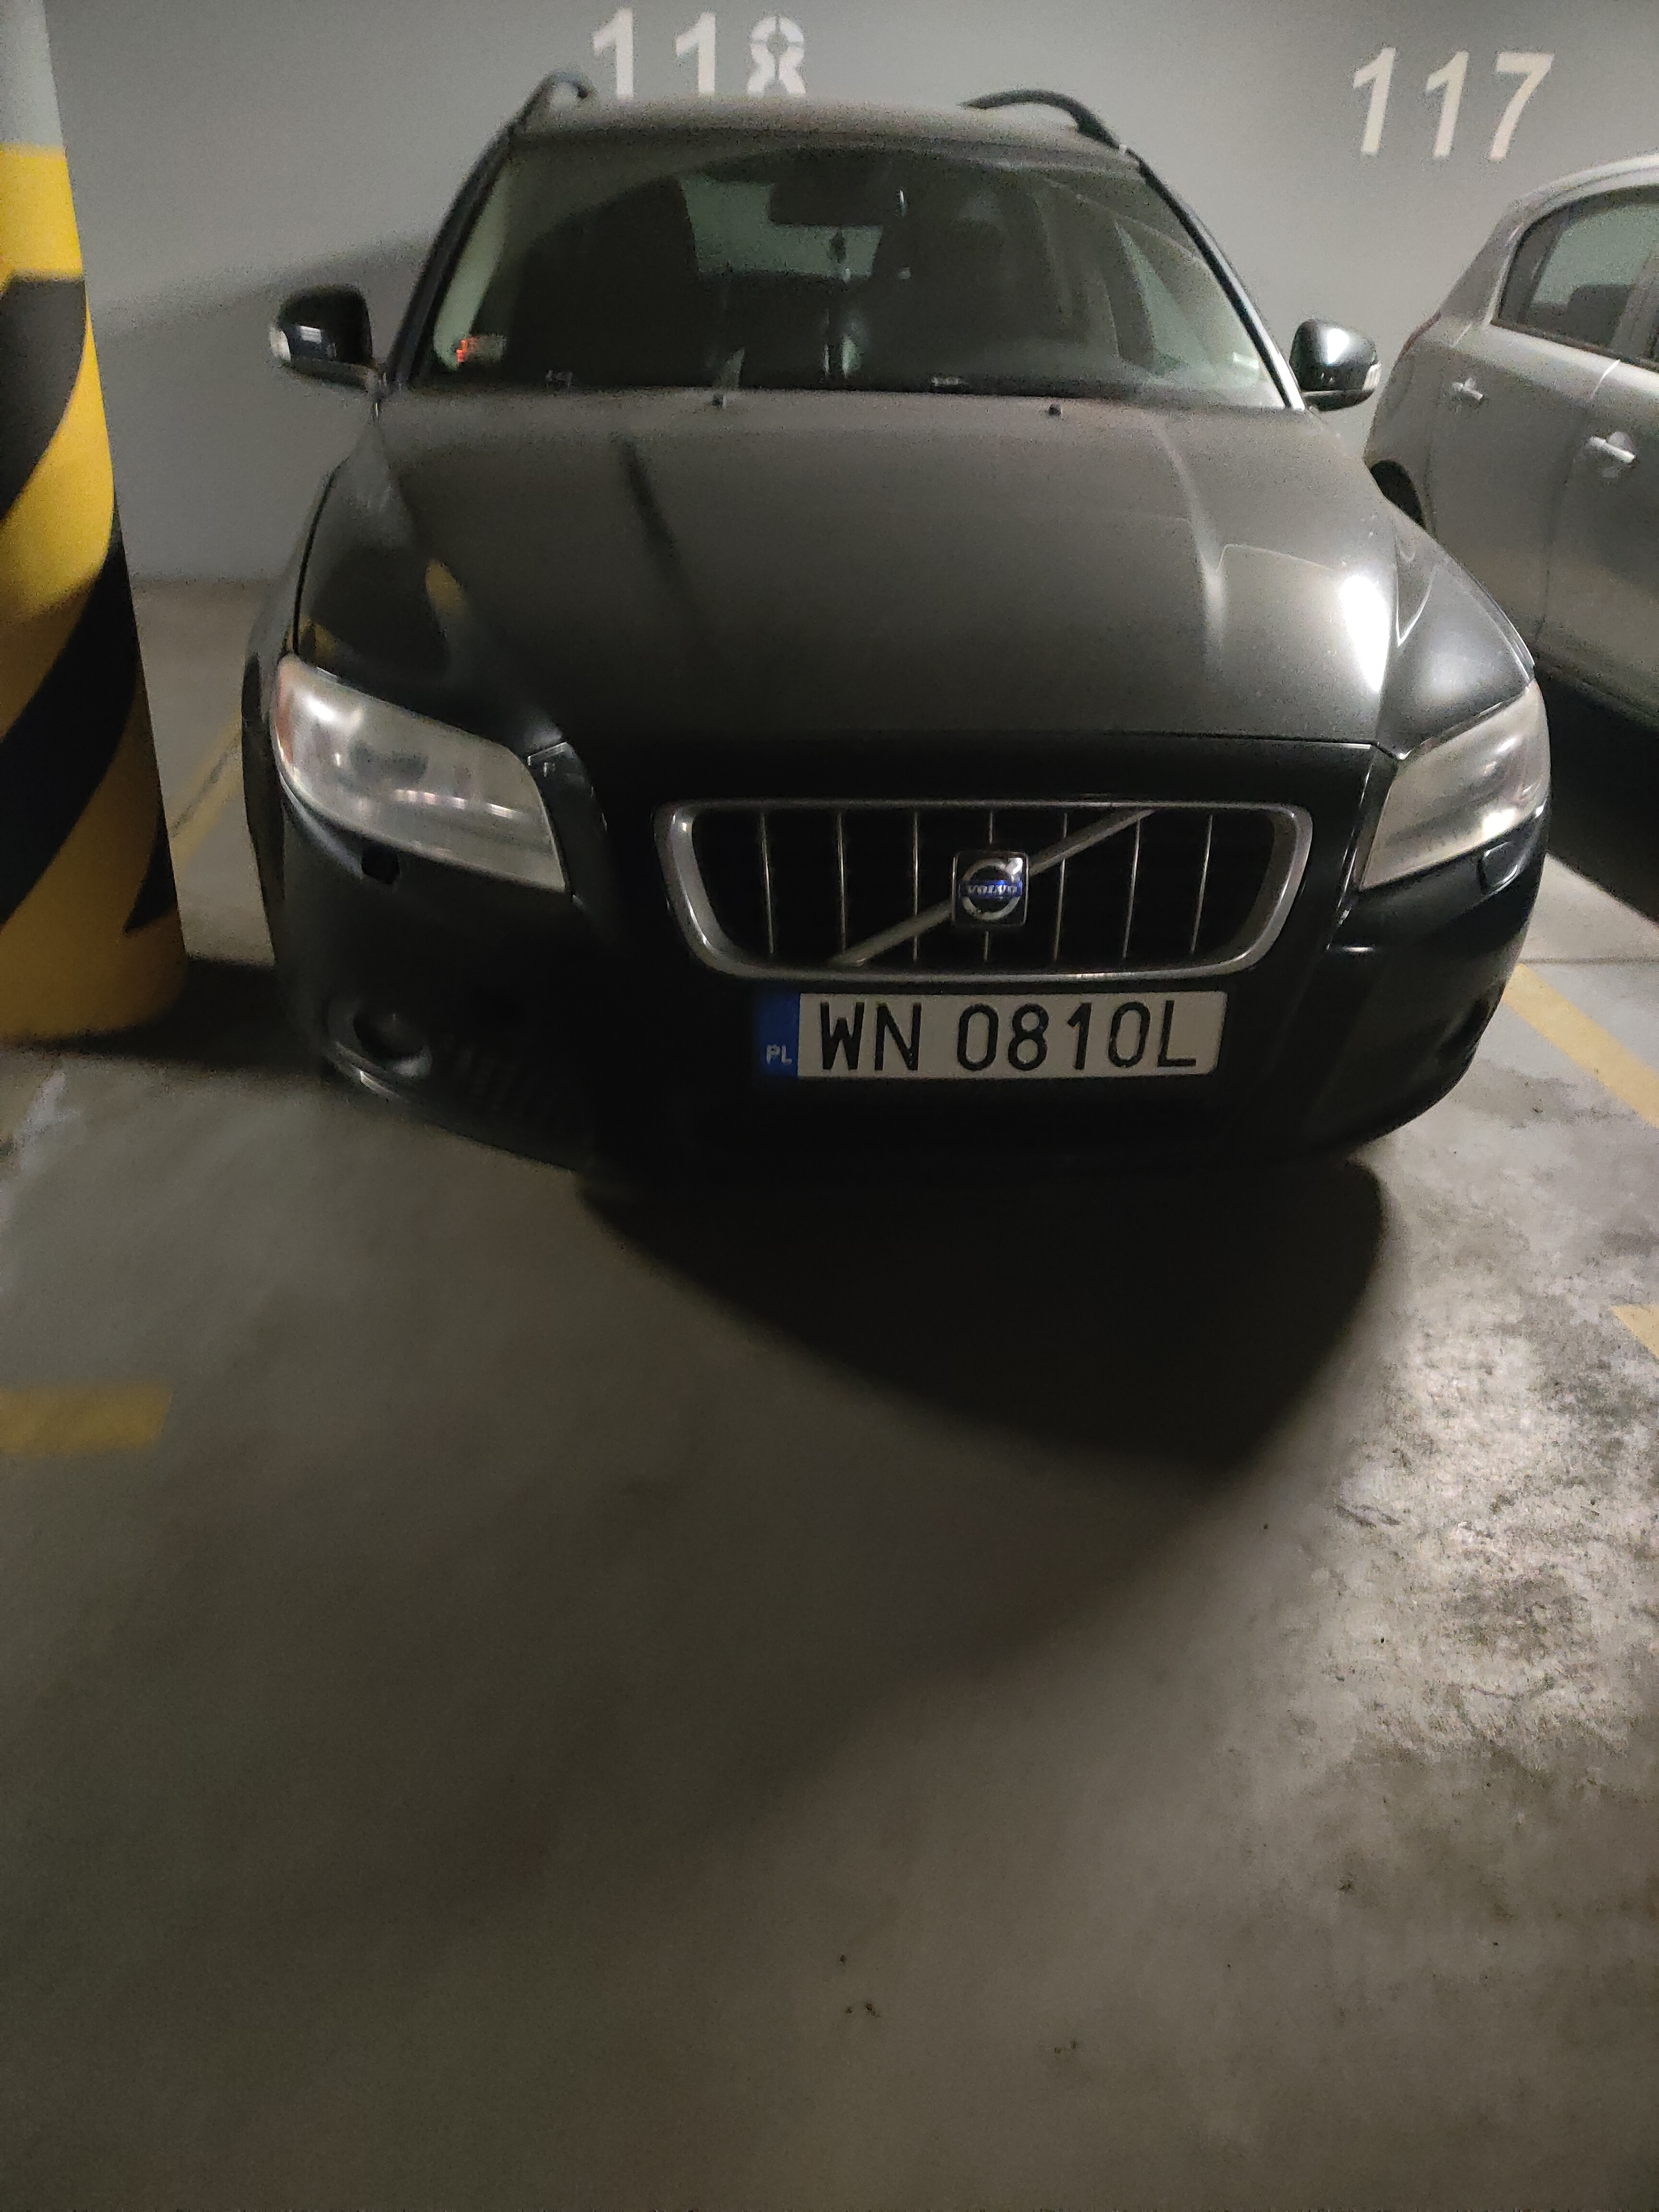number_plate: (748, 984, 1228, 1084)
